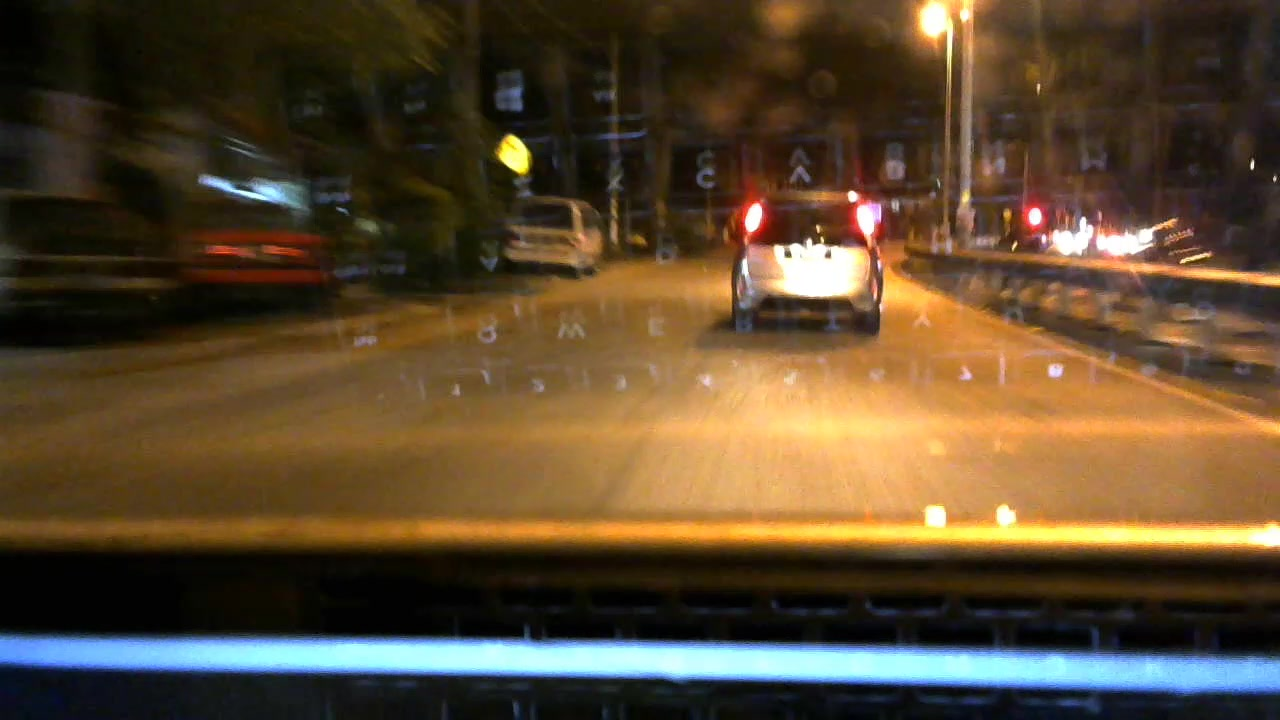Car: (718, 177, 895, 350)
